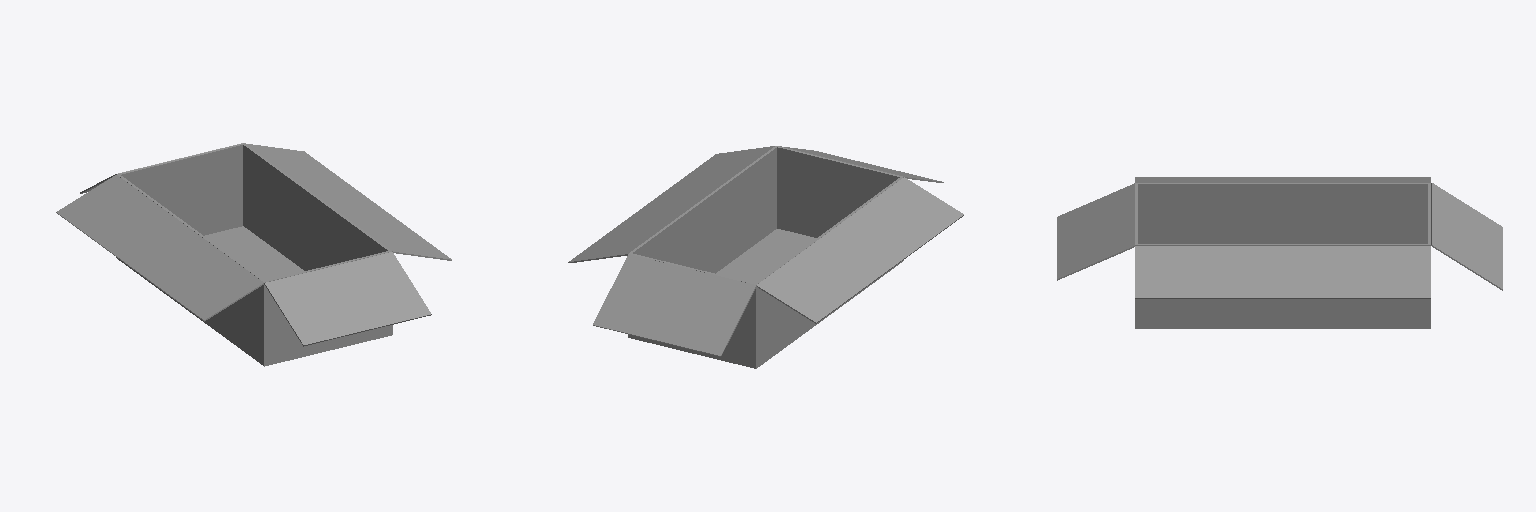
The picture shows the model from 3 angles: view 1: azimuth 30°, elevation 25°; view 2: azimuth 150°, elevation 25°; view 3: azimuth 270°, elevation 25°; orthographic projection.
Parts seen in each view (by area): view 1: Box_Booleanovsk__operace_Krychle_11, Box_Krychle_2, Box_Krychle, Box_Booleanovsk__operace_Krychle1, Box_Krychle_3; view 2: Box_Booleanovsk__operace_Krychle_11, Box_Krychle_2, Box_Krychle_1, Box_Booleanovsk__operace_Krychle1, Box_Krychle_3, Box_Krychle; view 3: Box_Booleanovsk__operace_Krychle_11, Box_Krychle_3, Box_Booleanovsk__operace_Krychle1, Box_Krychle, Box_Krychle_1, Box_Krychle_2.
Part boxes in pixels (bbox=[...]): Box_Booleanovsk__operace_Krychle_11: bbox=[121, 145, 387, 280]; Box_Krychle_2: bbox=[56, 175, 263, 321]; Box_Krychle: bbox=[264, 252, 431, 346]; Box_Booleanovsk__operace_Krychle1: bbox=[116, 143, 392, 366]; Box_Krychle_3: bbox=[245, 143, 451, 260]; Box_Booleanovsk__operace_Krychle_11: bbox=[633, 147, 899, 282]; Box_Krychle_2: bbox=[757, 177, 963, 323]; Box_Krychle_1: bbox=[593, 254, 756, 356]; Box_Booleanovsk__operace_Krychle1: bbox=[628, 146, 903, 368]; Box_Krychle_3: bbox=[568, 146, 774, 262]; Box_Krychle: bbox=[780, 146, 943, 182]; Box_Booleanovsk__operace_Krychle_11: bbox=[1138, 184, 1427, 243]; Box_Krychle_3: bbox=[1135, 246, 1430, 298]; Box_Booleanovsk__operace_Krychle1: bbox=[1135, 183, 1430, 328]; Box_Krychle: bbox=[1057, 183, 1134, 280]; Box_Krychle_1: bbox=[1431, 183, 1502, 290]; Box_Krychle_2: bbox=[1135, 177, 1430, 182].
Bounding box in the file's own units: 96.86 × 31.38 × 151.